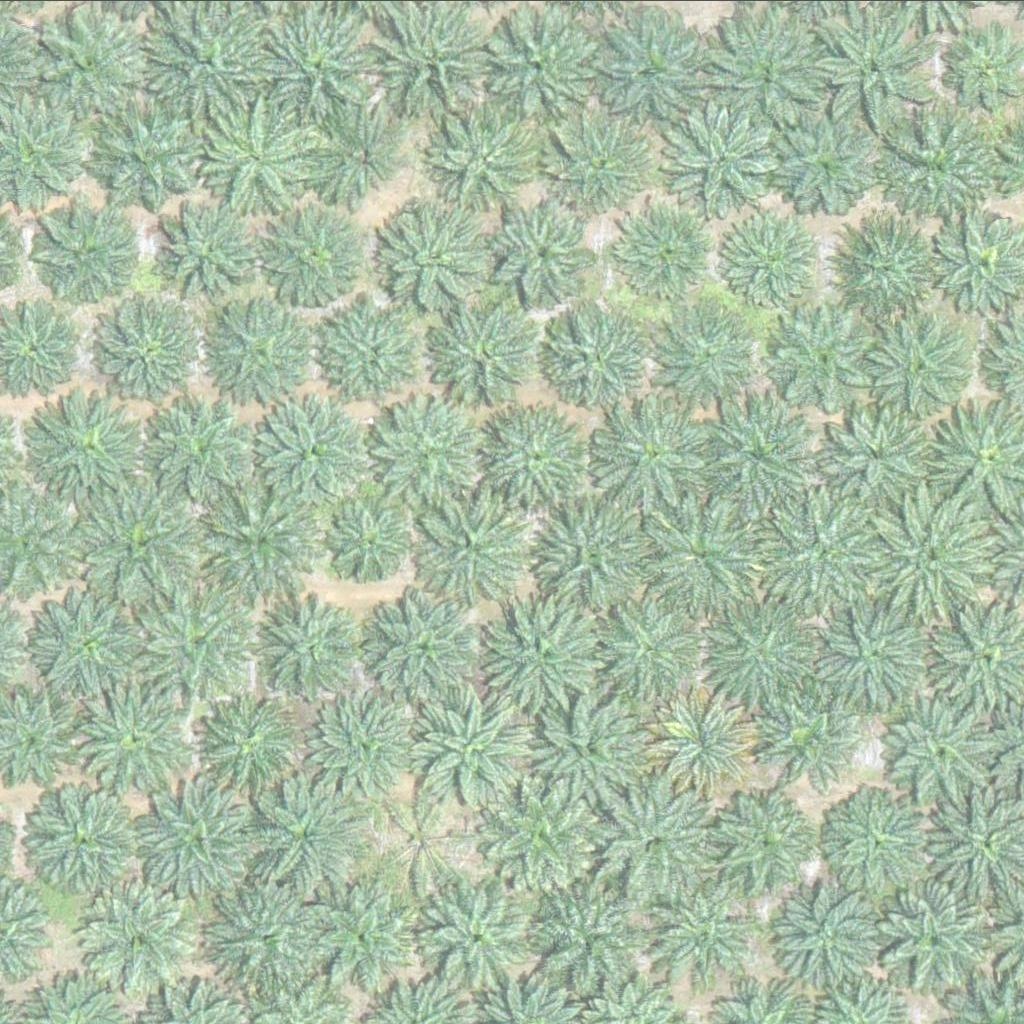Kelapa_Sawit: (145, 391, 271, 516), (202, 477, 328, 602), (708, 15, 834, 140), (804, 5, 930, 130), (643, 493, 769, 618), (762, 487, 888, 612), (369, 5, 494, 130), (865, 493, 990, 618), (28, 396, 142, 509), (480, 394, 594, 507), (414, 488, 528, 601), (595, 402, 709, 515), (77, 684, 191, 797), (367, 589, 481, 702), (23, 782, 136, 895), (34, 9, 147, 122), (434, 100, 547, 213), (263, 197, 376, 310), (385, 202, 498, 315), (93, 295, 206, 408), (206, 294, 319, 407), (589, 14, 702, 127), (665, 105, 778, 218), (861, 311, 974, 424), (820, 397, 933, 510), (701, 395, 814, 508), (539, 502, 652, 615), (484, 601, 597, 714), (532, 884, 645, 997), (424, 876, 537, 989), (307, 880, 420, 993), (209, 886, 322, 999), (485, 780, 598, 893), (137, 586, 250, 699), (650, 686, 763, 799), (883, 689, 996, 802), (603, 784, 716, 897), (708, 788, 821, 901), (875, 117, 989, 229), (826, 212, 940, 324), (762, 306, 876, 418), (78, 881, 192, 993), (138, 781, 252, 893), (315, 686, 429, 798), (28, 585, 141, 697), (259, 8, 372, 120), (485, 5, 598, 117), (93, 98, 206, 210), (324, 297, 437, 409), (432, 300, 545, 412), (260, 396, 373, 508), (371, 397, 484, 509), (82, 488, 195, 600), (594, 590, 707, 702), (703, 600, 816, 712), (814, 600, 927, 712), (250, 779, 363, 891), (534, 694, 647, 806), (412, 693, 525, 805), (648, 877, 761, 989), (880, 881, 993, 993), (372, 790, 473, 890), (210, 107, 311, 207), (304, 101, 405, 201), (551, 113, 652, 213), (40, 207, 141, 307), (157, 196, 258, 296), (491, 205, 592, 305), (828, 791, 929, 891), (773, 884, 874, 984), (545, 310, 645, 410), (773, 110, 873, 210), (617, 205, 717, 305), (724, 209, 824, 309), (656, 304, 756, 404), (199, 695, 299, 795), (257, 596, 357, 696), (765, 694, 854, 781), (942, 33, 1018, 108), (333, 507, 409, 582)
